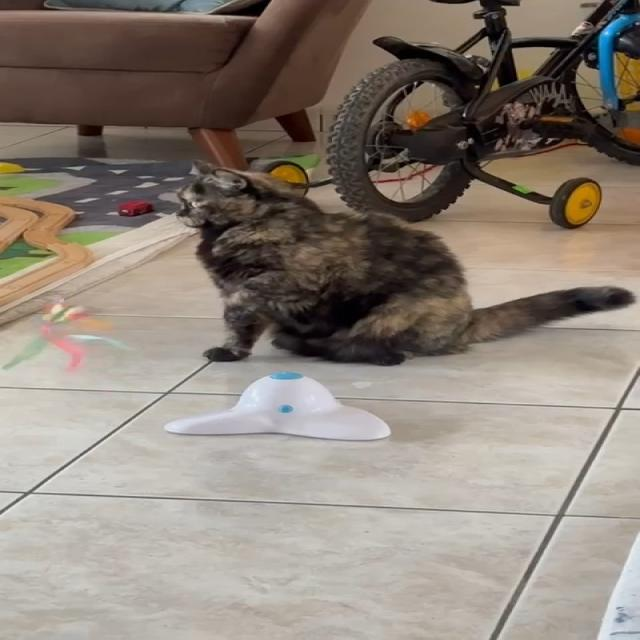authorized: (173, 159, 635, 366)
